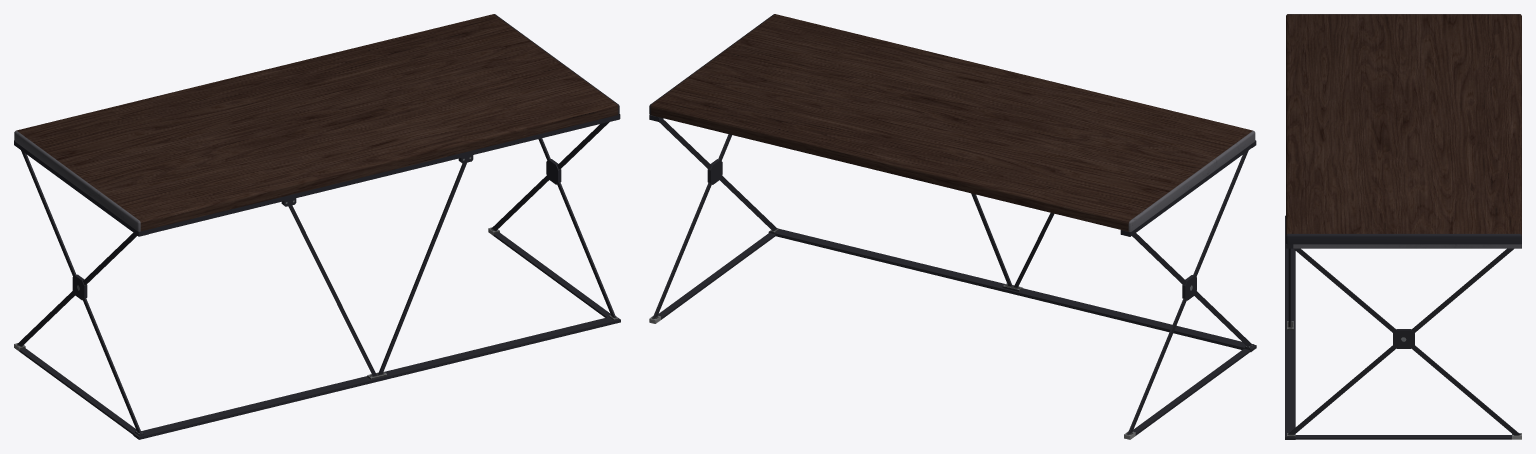
Rendered from stol.fbx.
The picture shows the model from 3 angles, left to right: view 1: azimuth 30°, elevation 25°; view 2: azimuth 150°, elevation 25°; view 3: azimuth 270°, elevation 25°; orthographic projection. The views are drawn at different scales.
Visible parts, largest first — view 1: Symmetry_1; view 2: Symmetry_1; view 3: Symmetry_1.
Boxes of the visible parts, x1,y1,x2,y2 form: Symmetry_1: [14, 14, 620, 439]; Symmetry_1: [649, 14, 1256, 439]; Symmetry_1: [1285, 14, 1521, 439].
Size of the model in its own units: 2.29 by 0.9895 by 1.04.
